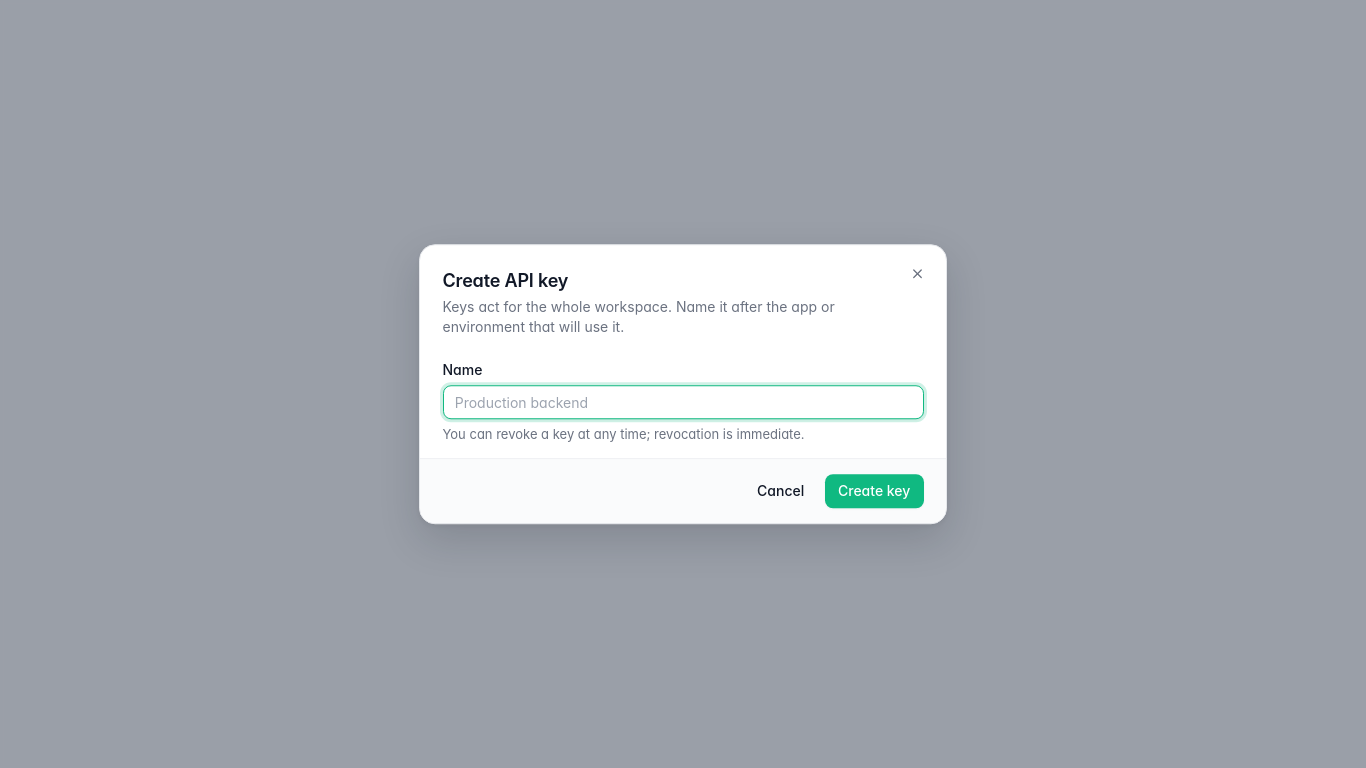
it: <CreateKeyDialog /> › requires a name
This screenshot has width=1366, height=768.
Click the button "Create key": (874, 491) [825, 474, 924, 508]
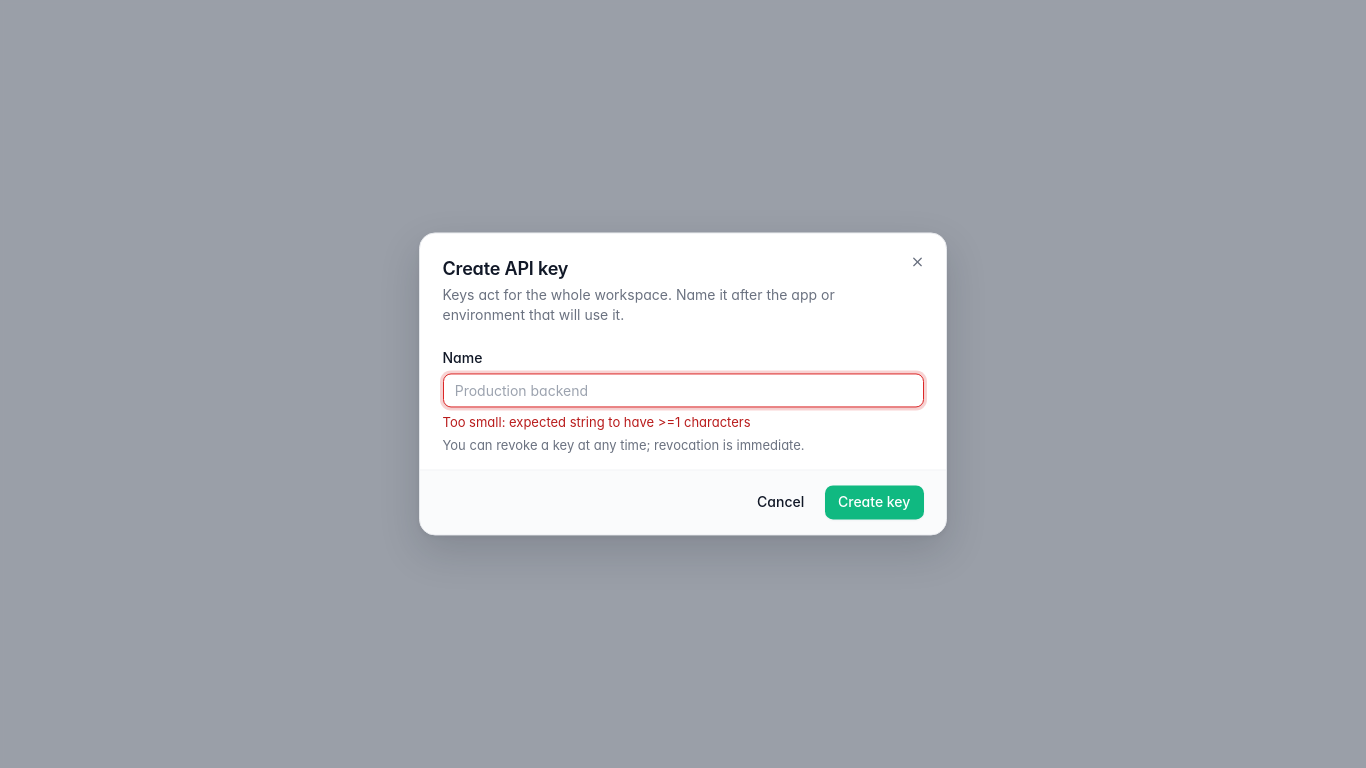
Expected: the message "Too small: expected string to have >=1 characters" is shown, [442, 414, 751, 430]
